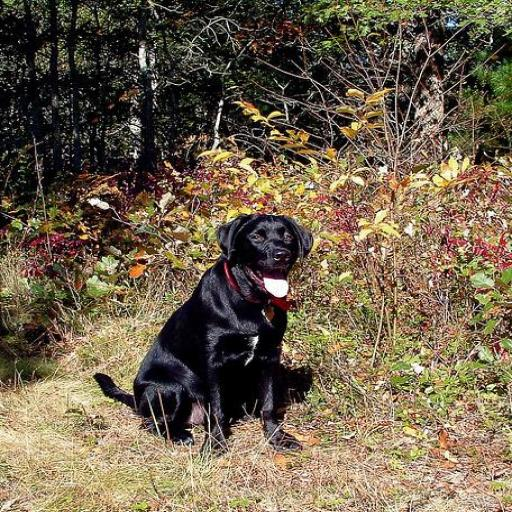dog_face: (215, 214, 321, 300)
